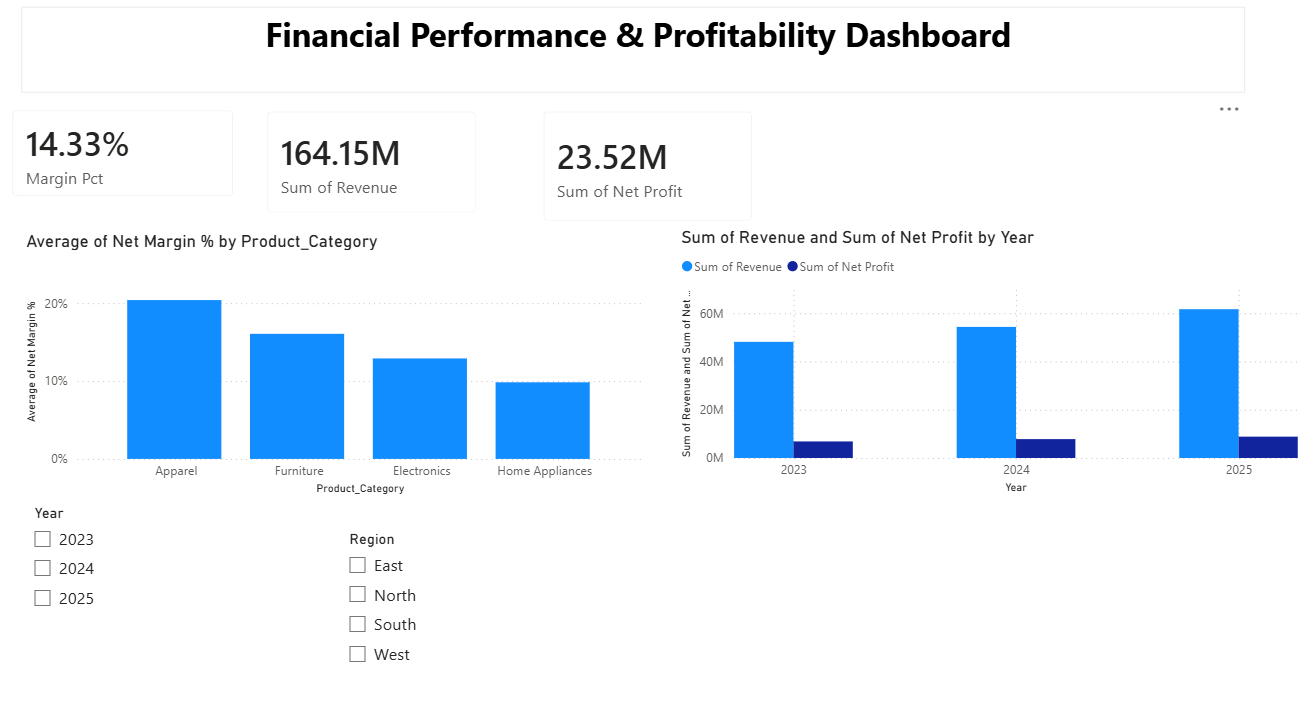

Layout of this report page (visuals, bound fields, positions):
{"tool":"powerbi","page":{"name":"Executive Summary","canvas":[1280,720],"ordinal":0},"visuals":[{"type":"cardVisual","fields":{"Data":["Sum(FinDate.Revenue)"]},"box":[249.7,98.8,238.8,133.1],"z":0},{"type":"cardVisual","fields":{"Data":["Sum(FinDate.Net Profit)"]},"box":[520.1,98.8,238.8,141.3],"z":1000},{"type":"cardVisual","fields":{"Data":["FinDate.Margin Pct"]},"box":[0,98.2,250.1,118.3],"z":2000},{"type":"clusteredColumnChart","fields":{"Y":["Sum(FinDate.Revenue)","Sum(FinDate.Net Profit)"],"Category":["FinDate.Year"]},"box":[666.9,229.2,613.4,266.2],"z":3000},{"type":"clusteredColumnChart","fields":{"Category":["FinDate.Product_Category"],"Y":["Avg(FinDate.Net Margin %)"]},"box":[26.1,231.9,613.4,263.5],"z":4000},{"type":"slicer","fields":{"Values":["FinDate.Year"]},"box":[26.1,495.4,238.8,182.5],"z":5000},{"type":"slicer","fields":{"Values":["FinDate.Region"]},"box":[333.4,521.4,238.8,182.5],"z":6000},{"type":"textbox","box":[25.6,13.4,1196.9,84.7],"z":6001}]}

Visuals, with their boxes in screenshot pixels (x1, y1, x2, y2), scaled from the page's 1280x720 canvas onto the 1304x728 screenshot:
cardVisual - Sum(FinDate.Revenue): <region>254, 100, 498, 234</region>
cardVisual - Sum(FinDate.Net Profit): <region>530, 100, 773, 243</region>
cardVisual - FinDate.Margin Pct: <region>0, 99, 255, 219</region>
clusteredColumnChart - Sum(FinDate.Revenue) x Sum(FinDate.Net Profit): <region>679, 232, 1303, 501</region>
clusteredColumnChart - FinDate.Product_Category x Avg(FinDate.Net Margin %): <region>27, 234, 651, 501</region>
slicer - FinDate.Year: <region>27, 501, 270, 685</region>
slicer - FinDate.Region: <region>340, 527, 583, 712</region>
textbox: <region>26, 14, 1245, 99</region>
